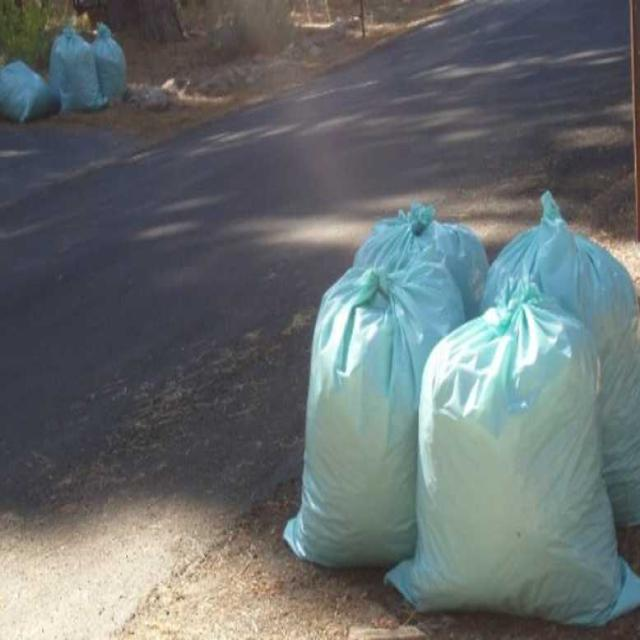garbage: (292, 182, 639, 638), (0, 6, 170, 118)
